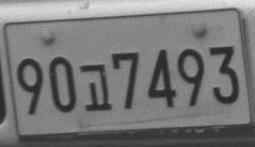0: (47, 55, 77, 112)
3: (209, 45, 240, 104)
4: (147, 48, 177, 108)
7: (110, 51, 141, 109)
9: (15, 57, 43, 116), (177, 47, 205, 106)
고: (79, 62, 112, 111)
